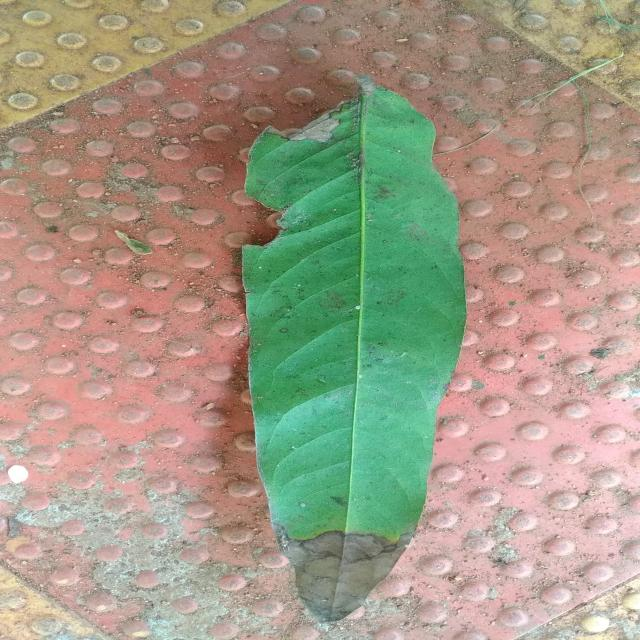seethaashoka: (242, 75, 467, 621)
